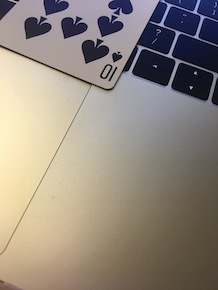TenOfSpades: (1, 1, 163, 92)
